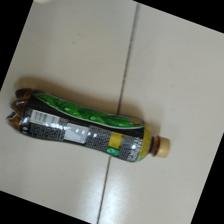Olong: (4, 90, 172, 164)
